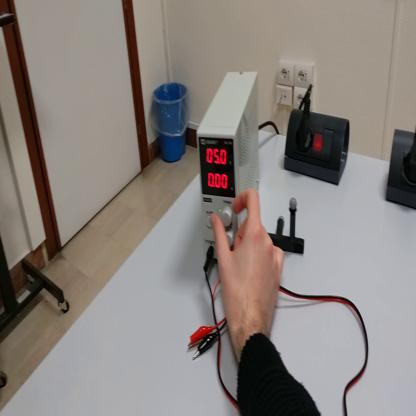hand: (212, 187, 286, 343)
power supply: (195, 71, 260, 260)
socket: (284, 114, 350, 185), (384, 128, 416, 217)
